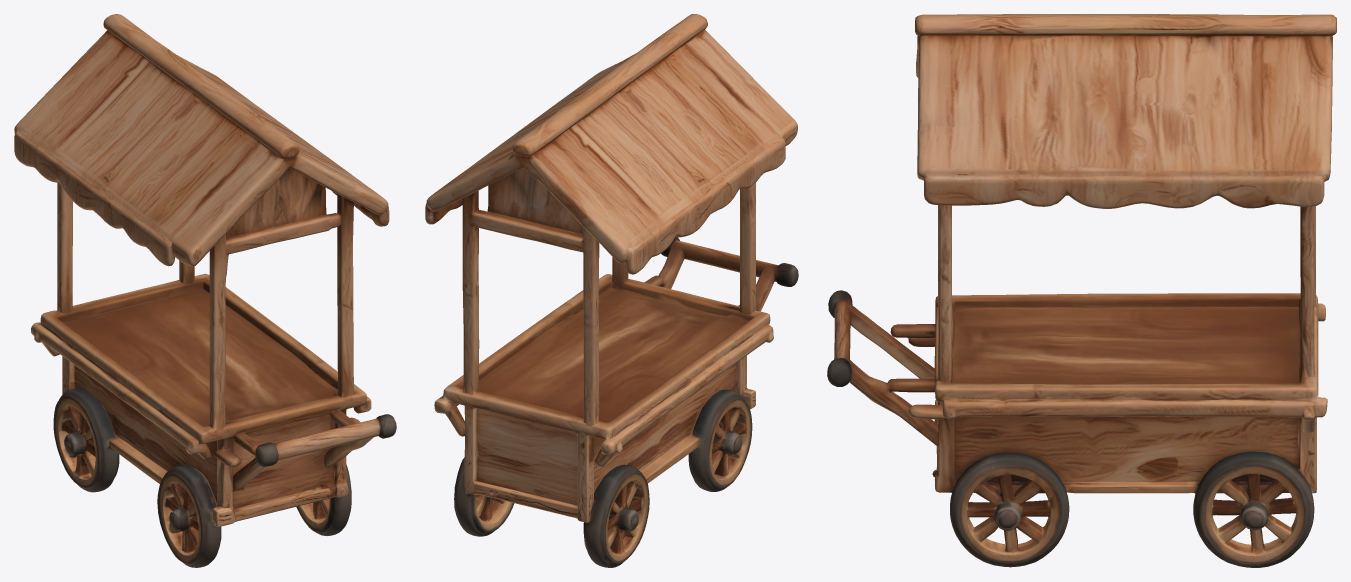
Rendered from prop-cart-market.glb.
3 renders of one model, left to right at view 1: azimuth 30°, elevation 25°; view 2: azimuth 150°, elevation 25°; view 3: azimuth 270°, elevation 25°, orthographic. The views are drawn at different scales.
Visible parts, largest first — view 1: tripo_node_7c861b9b-d4bb-4afd-b534-a9fb05b8645c; view 2: tripo_node_7c861b9b-d4bb-4afd-b534-a9fb05b8645c; view 3: tripo_node_7c861b9b-d4bb-4afd-b534-a9fb05b8645c.
Boxes of the visible parts, x1,y1,x2,y2 form: tripo_node_7c861b9b-d4bb-4afd-b534-a9fb05b8645c: [14, 14, 396, 567]; tripo_node_7c861b9b-d4bb-4afd-b534-a9fb05b8645c: [425, 14, 798, 567]; tripo_node_7c861b9b-d4bb-4afd-b534-a9fb05b8645c: [827, 14, 1336, 567].
Size of the model in its own units: 1.01 by 2 by 1.81.
Materials: 1 (1 with a texture image).
